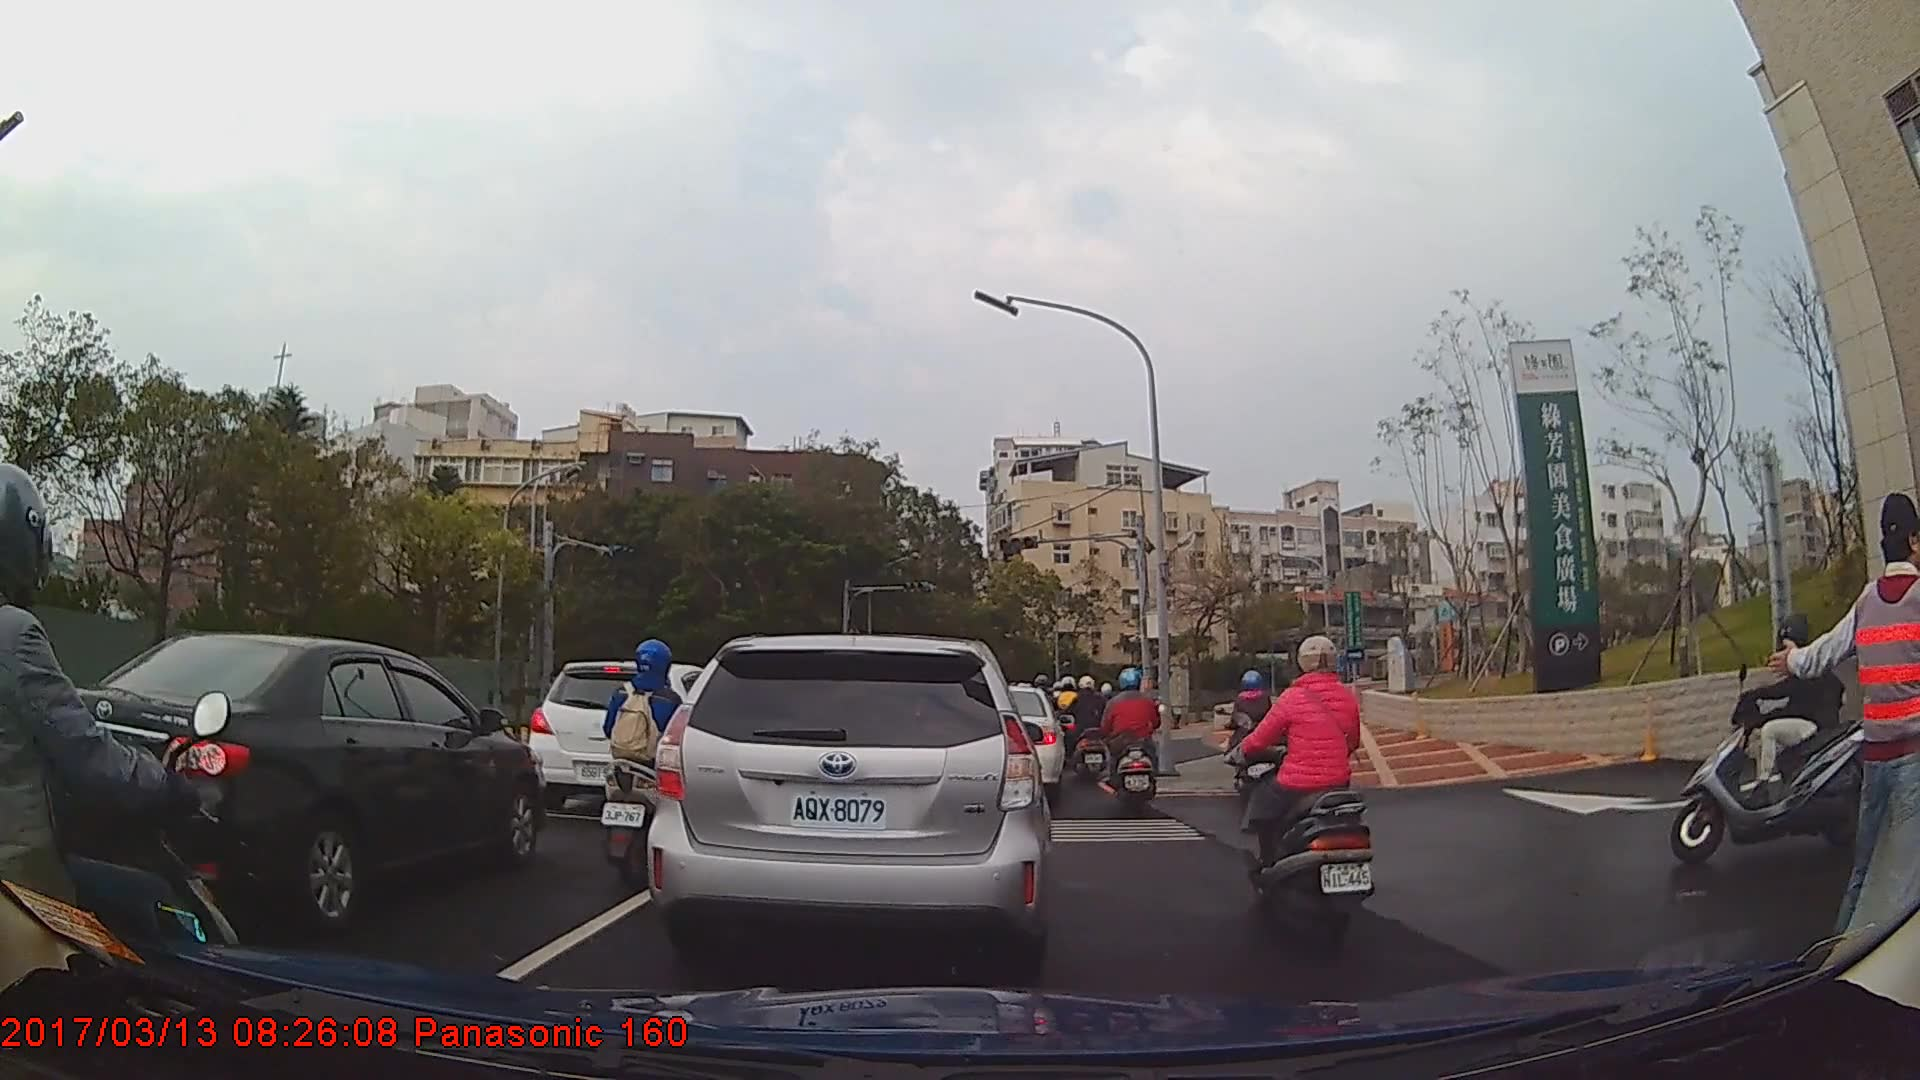pedestrian: (1776, 495, 1920, 979)
rider: (1, 460, 250, 1080), (1671, 617, 1883, 858), (1235, 635, 1374, 953), (599, 632, 699, 893), (1098, 666, 1167, 821), (1226, 665, 1277, 811), (1068, 674, 1111, 784)
vehicle: (30, 630, 542, 933), (642, 634, 1049, 956), (526, 661, 741, 812), (958, 683, 1065, 799)
